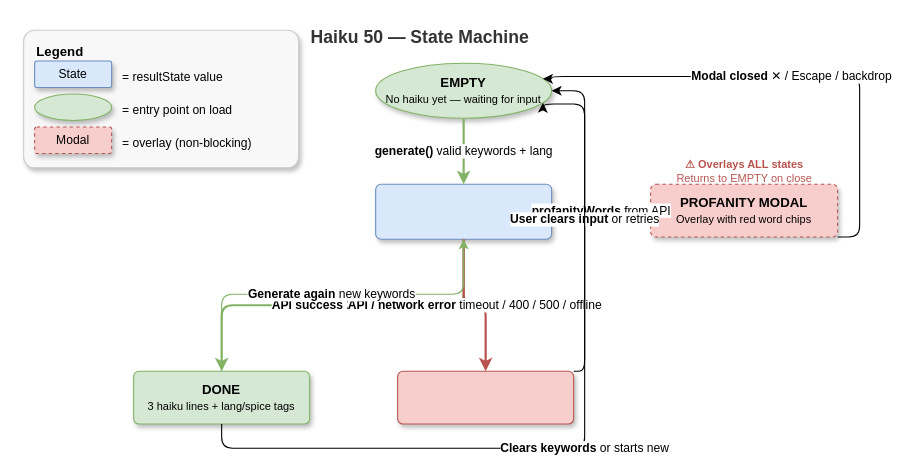
This 911x476 diagram has some shape labels left out. Each missing label, with the centre of its shape:
ERROR ! icon + error message text: pixel 486 399
Initial: pixel 73 108
LOADING Spinner + "Composing the lines…": pixel 464 213
